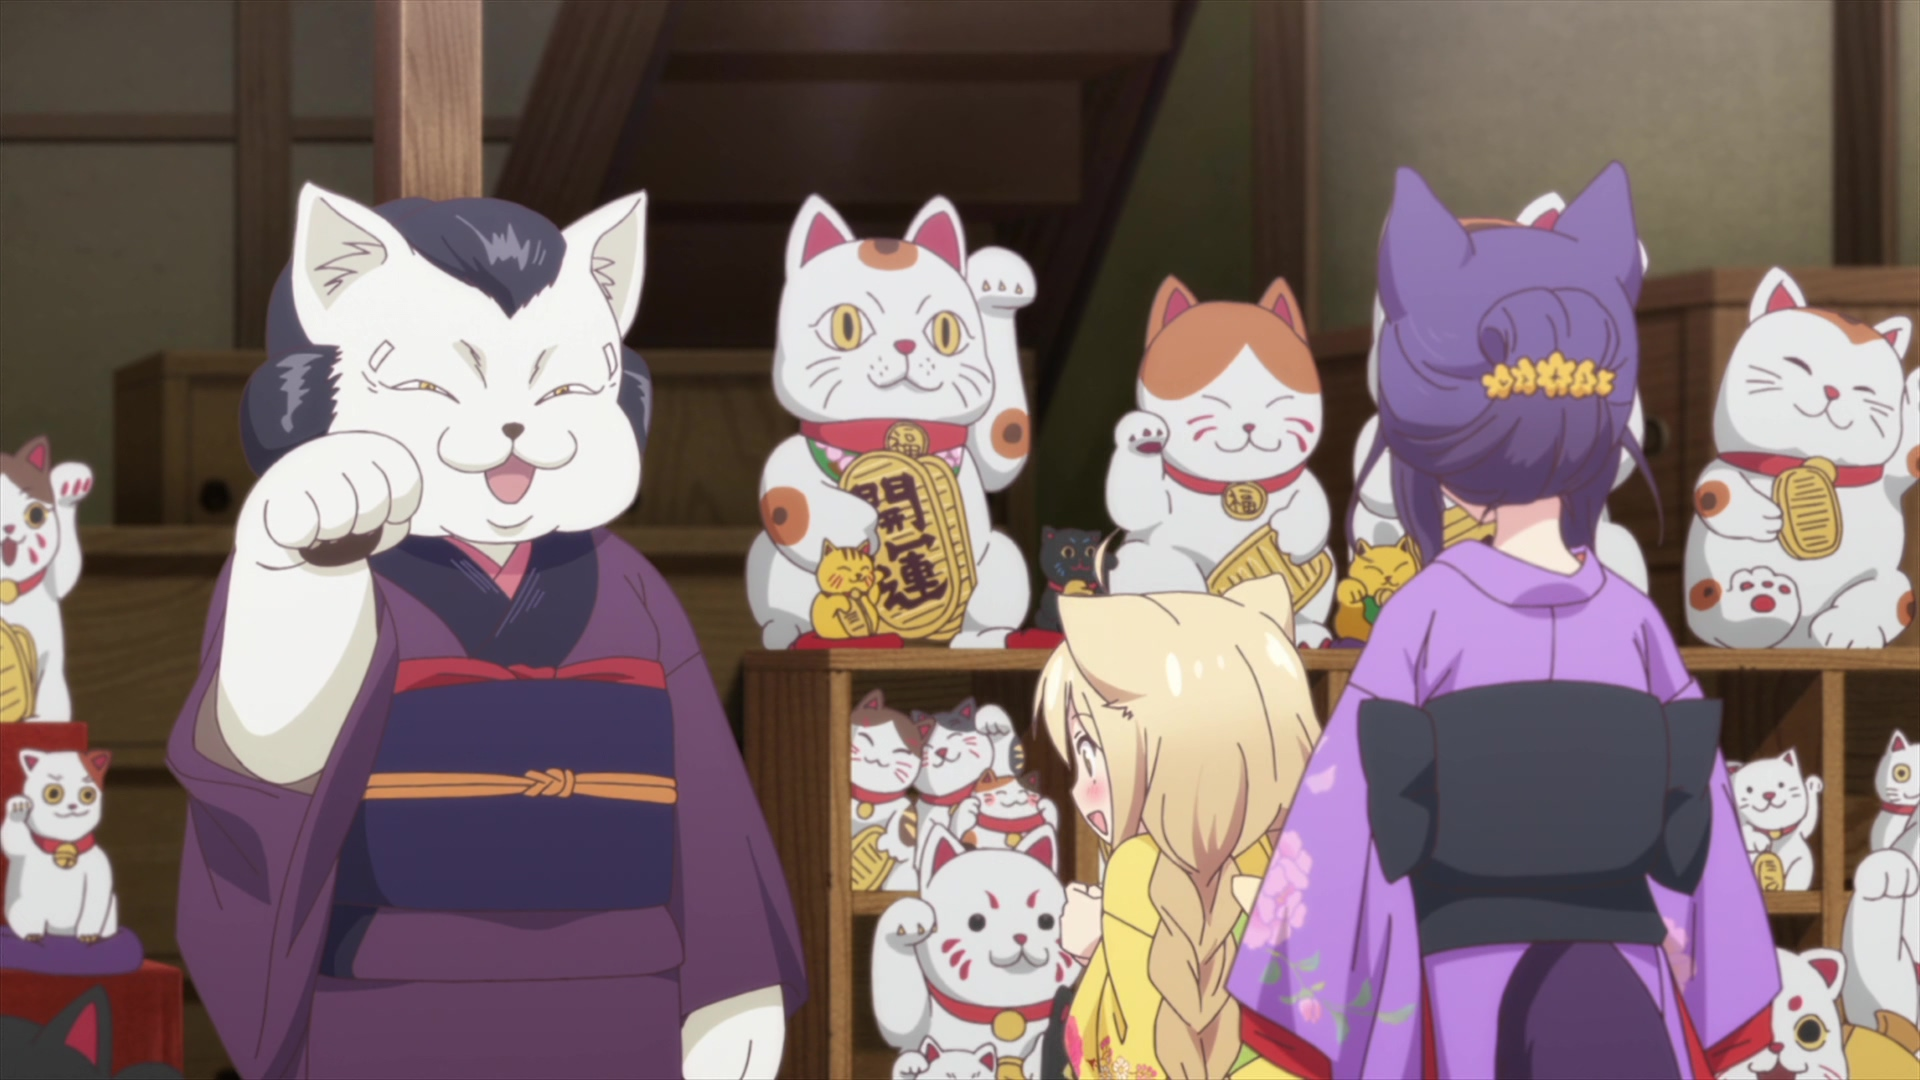其他: (166, 179, 807, 1080)
柚: (1033, 572, 1324, 1080)
皋: (1222, 161, 1783, 1080)
